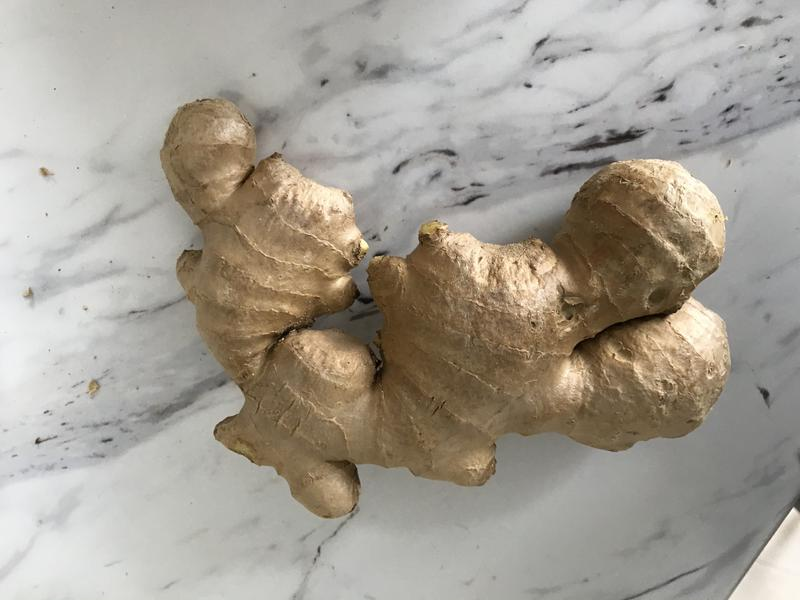ginger: (150, 80, 749, 538)
